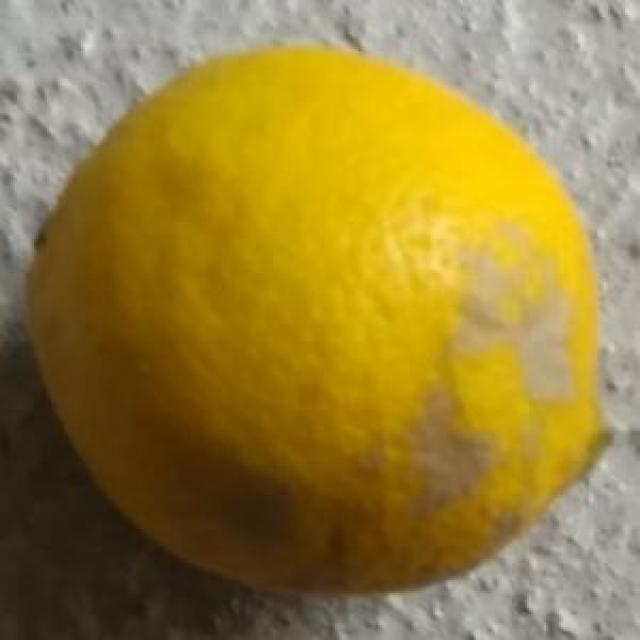lemon: (23, 44, 625, 592)
